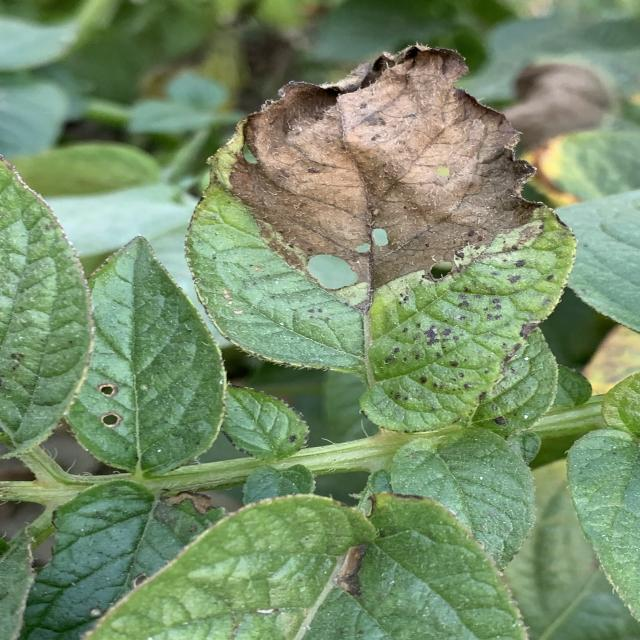lateblight: (215, 45, 537, 289), (505, 64, 610, 150)
